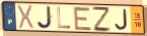E: (72, 6, 94, 32)
J: (36, 5, 55, 30), (114, 8, 129, 31)
L: (56, 6, 72, 30)
X: (17, 4, 35, 30)
Z: (91, 6, 113, 33)
